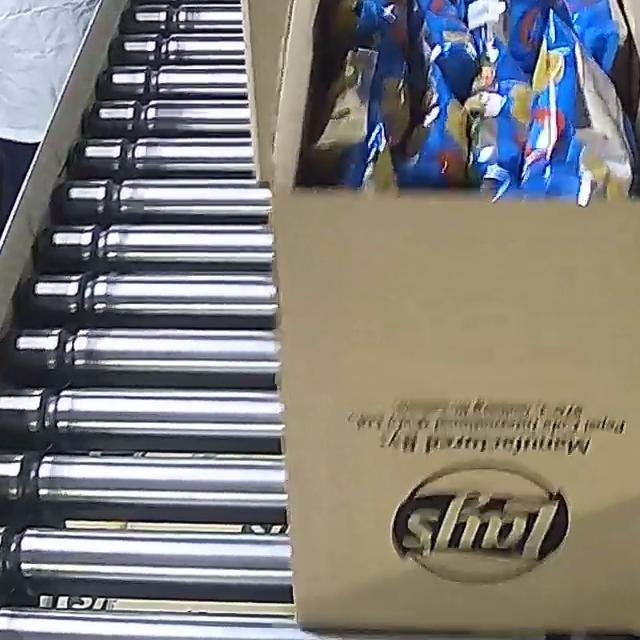paprika: (304, 0, 640, 204)
